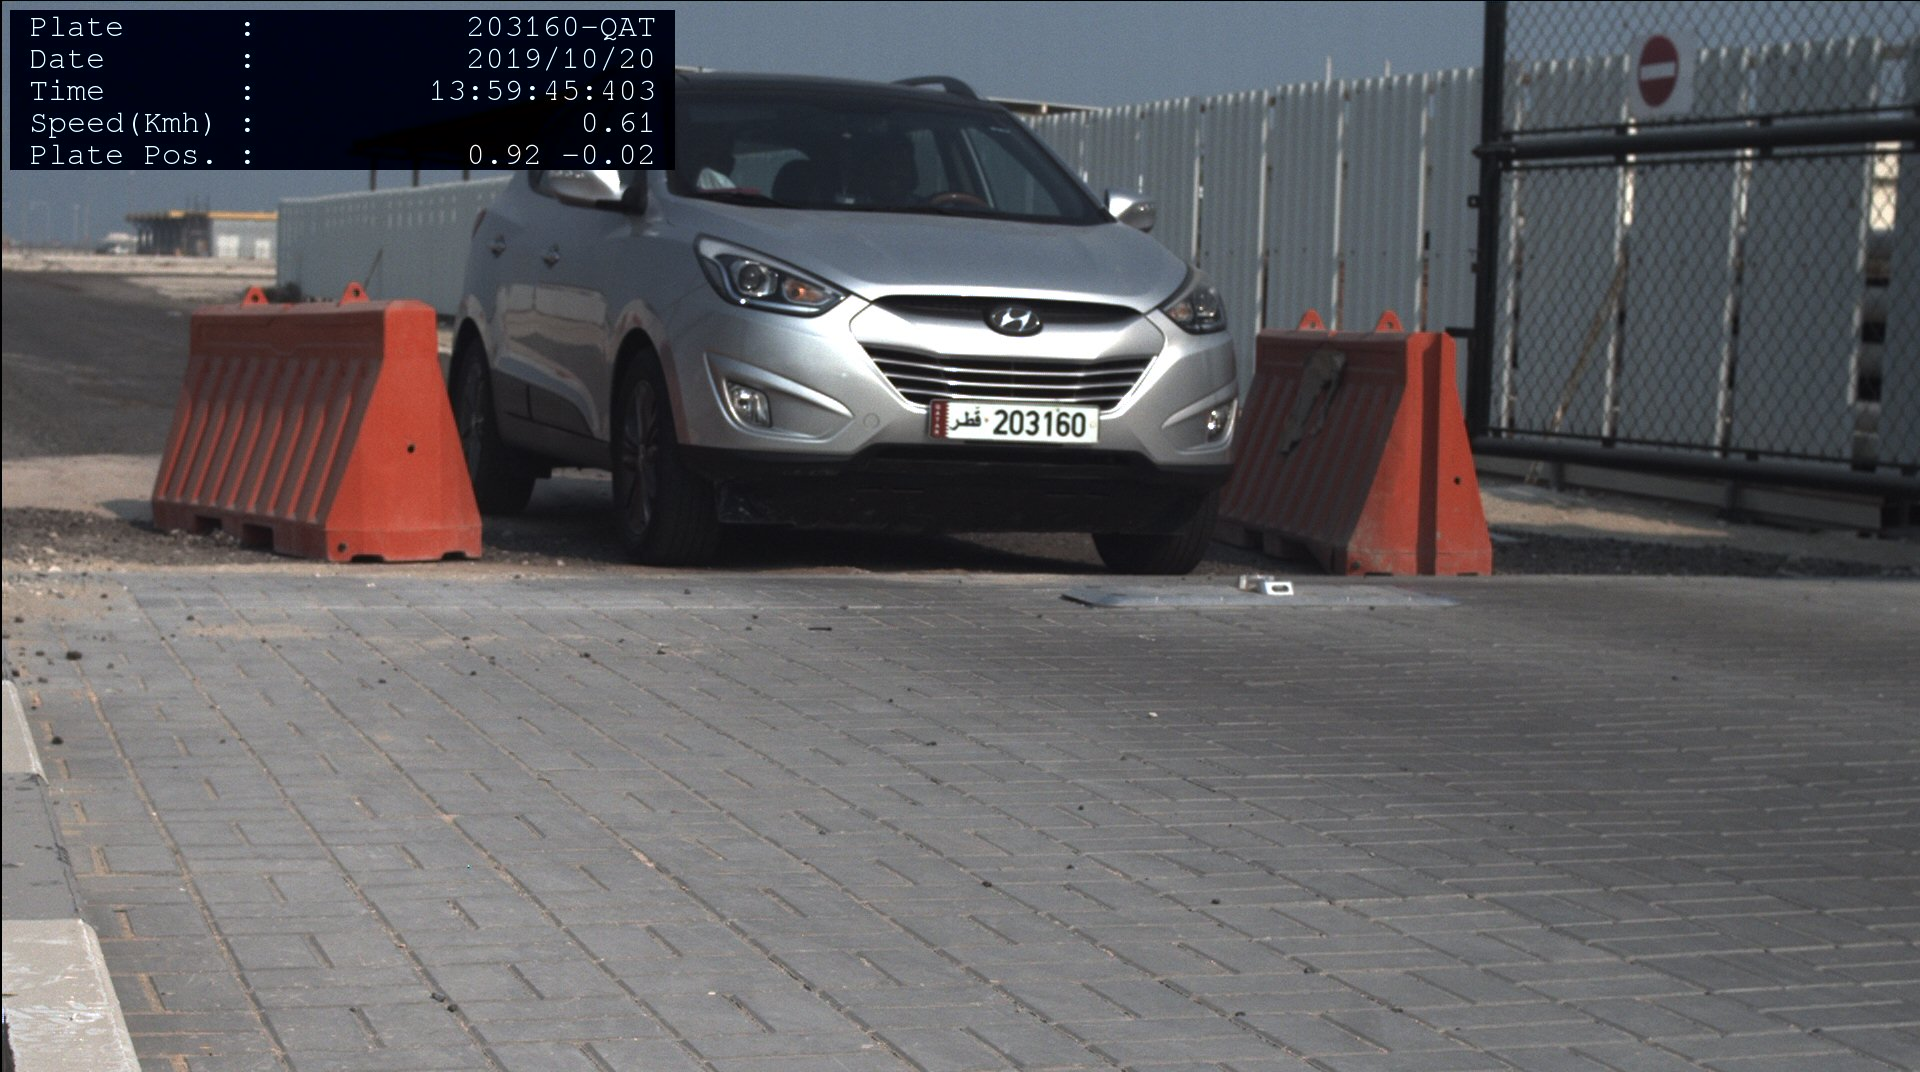License Plate: (931, 402, 1099, 443)
